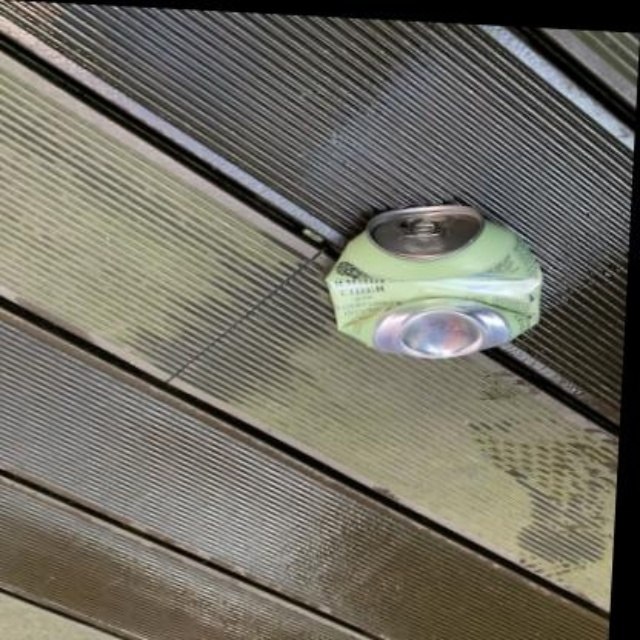trash: (326, 205, 540, 357)
